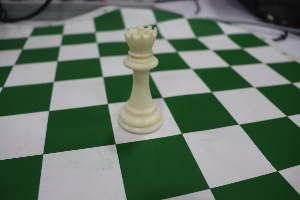white_queen: (114, 16, 170, 140)
